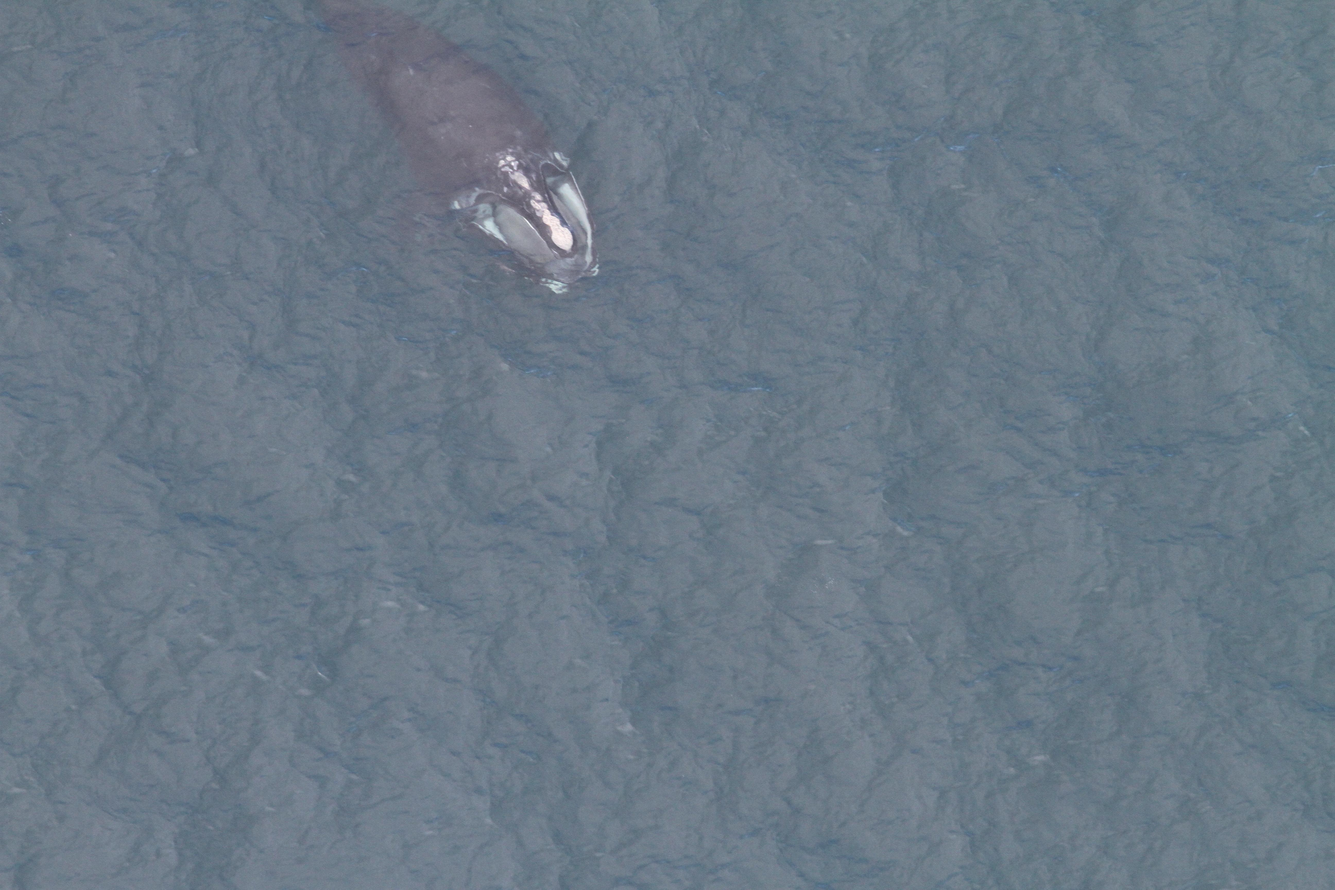whale: (306, 0, 605, 299)
